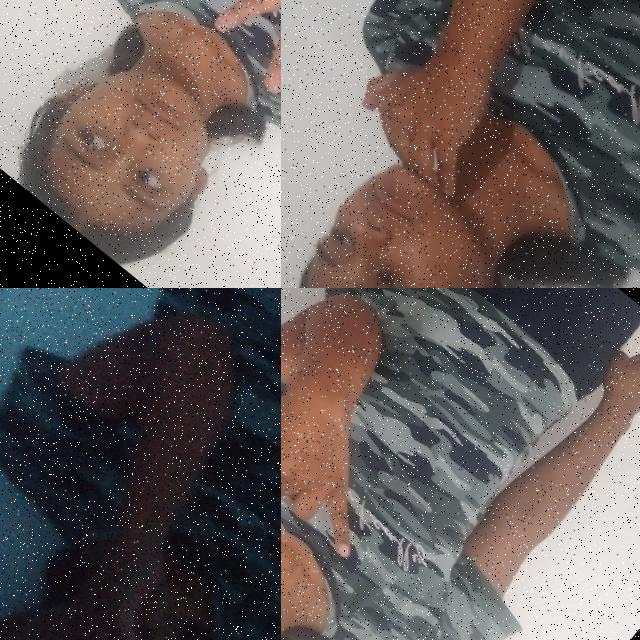Chin Flick: (281, 11, 640, 288)
Corna: (281, 343, 439, 611)
Fist Mouth: (0, 433, 281, 640)
Moutza: (161, 0, 281, 157)
